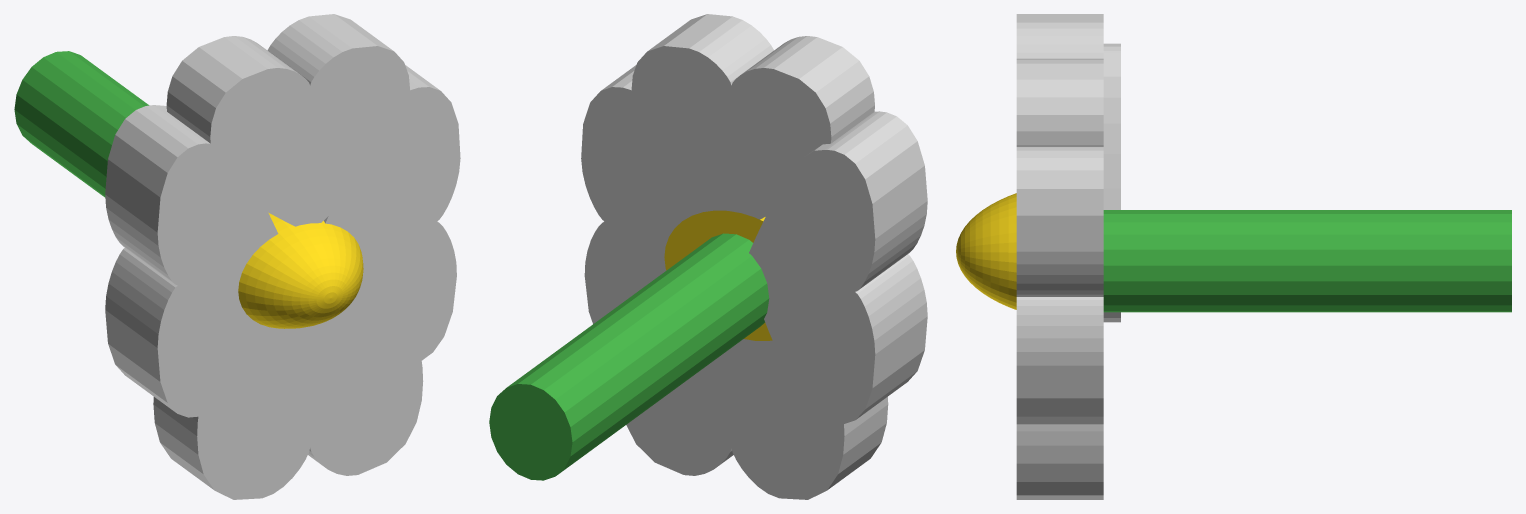
File: tinker.obj
3 renders of one model, left to right at view 1: azimuth 30°, elevation 25°; view 2: azimuth 150°, elevation 25°; view 3: azimuth 270°, elevation 25°, orthographic.
Parts seen in each view (by area): view 1: group_0_16448250, group_0_4634441, group_0_16768282; view 2: group_0_16448250, group_0_4634441, group_0_16768282; view 3: group_0_16448250, group_0_4634441, group_0_16768282.
Part boxes in pixels (x1,y1,x2,y2): group_0_16448250: (105, 14, 460, 499); group_0_4634441: (14, 51, 149, 197); group_0_16768282: (238, 212, 363, 328); group_0_16448250: (581, 14, 927, 499); group_0_4634441: (489, 233, 769, 480); group_0_16768282: (664, 210, 772, 340); group_0_16448250: (1016, 14, 1120, 499); group_0_4634441: (1103, 210, 1511, 312); group_0_16768282: (956, 193, 1016, 309).
Size of the model in its own units: 40 by 54 by 64.
